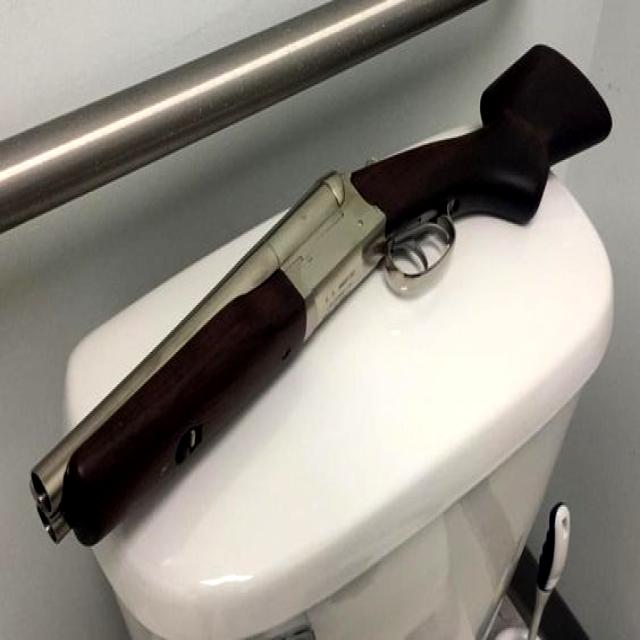shotgun: (24, 39, 618, 579)
